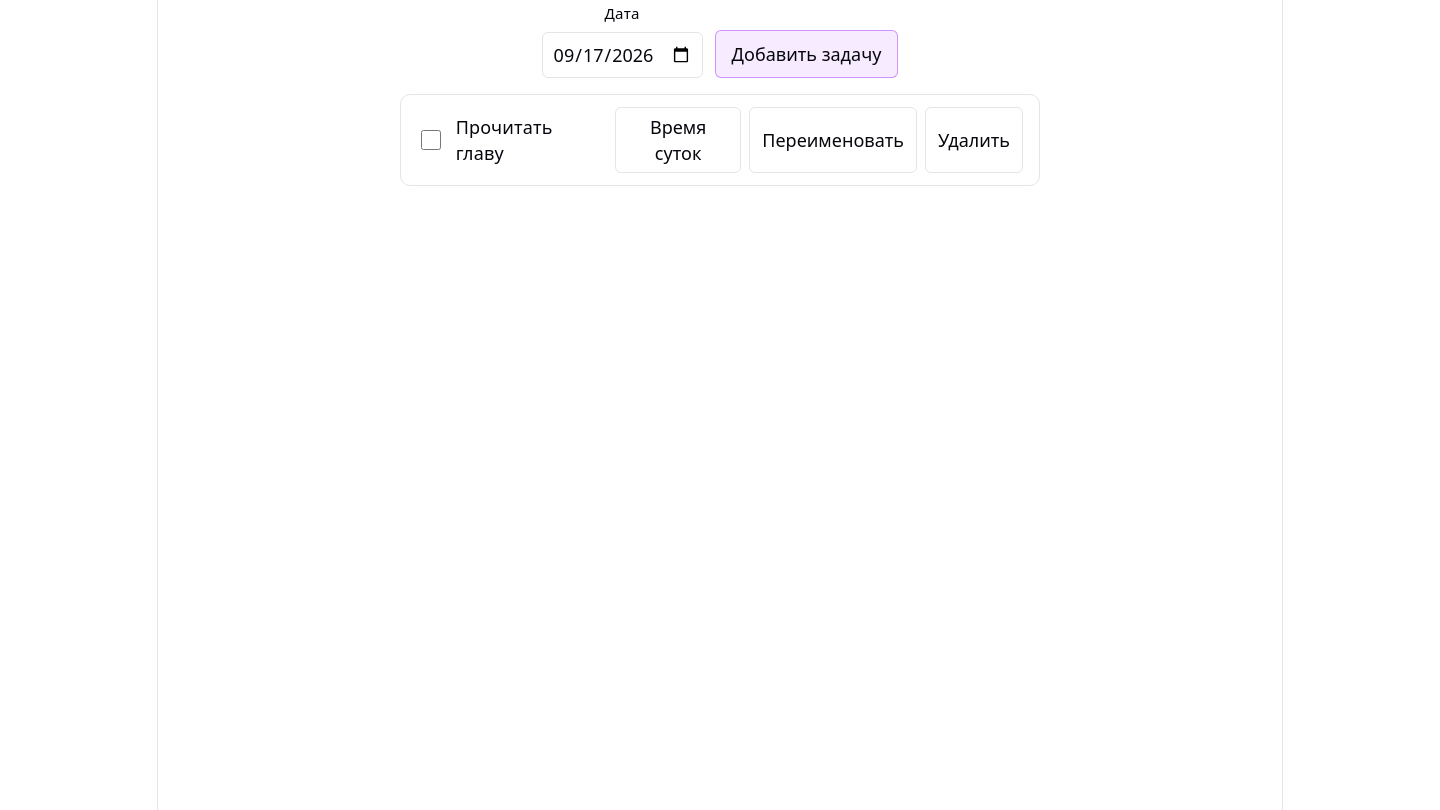
Test case: TasksTab › переименовывает задачу и обновляет название в списке
Expected: the text "Прочитать главу" is shown, [456,115,553,165]
Click the button with aria-label "Переименовать Прочитать главу".
click(833, 140)  # box [749,107,917,173]
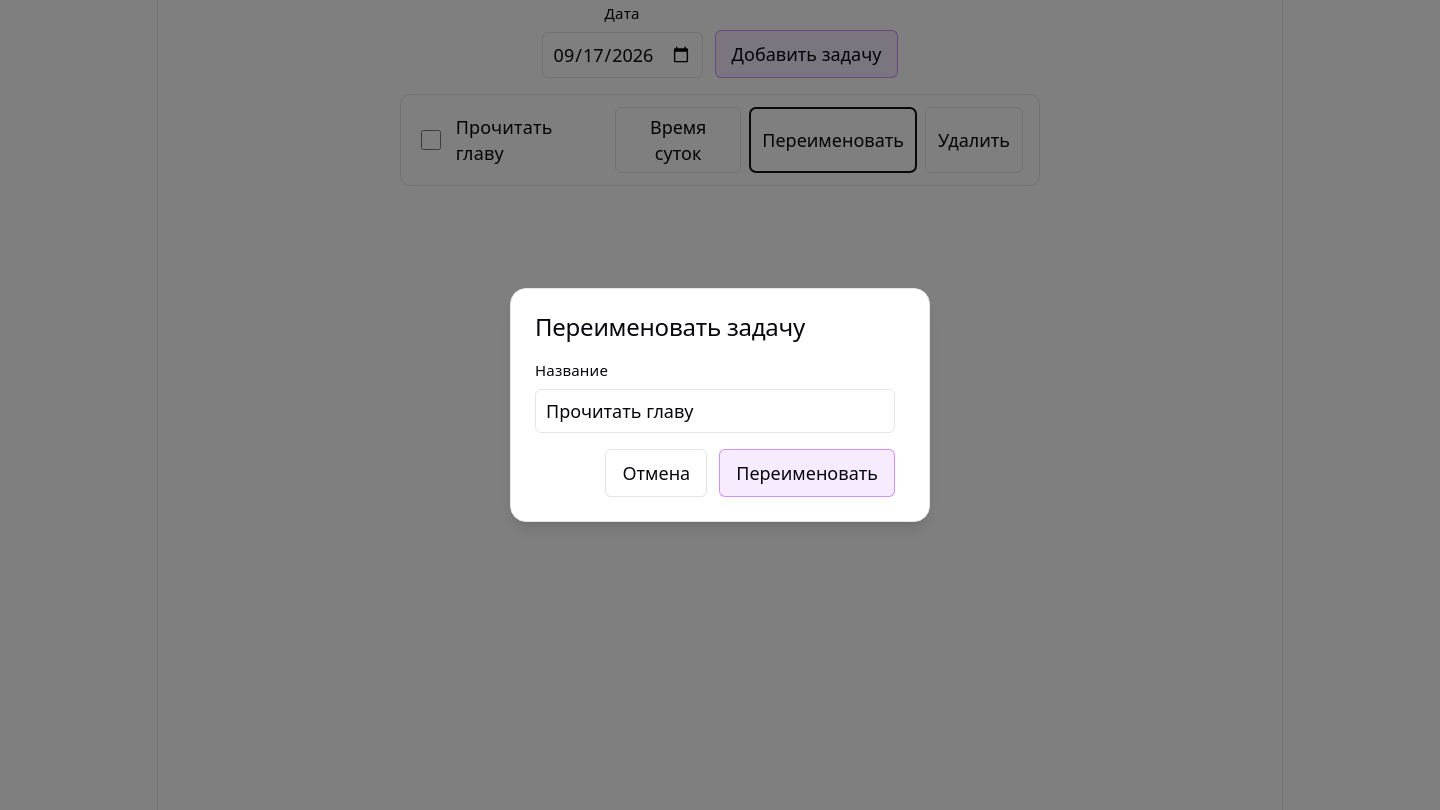
Now the field labelled "Название" holds "Прочитать главу"
Replace the text in the field labelled "Название" with "Прочитать две главы" at (715, 411), box [535,389,895,433]
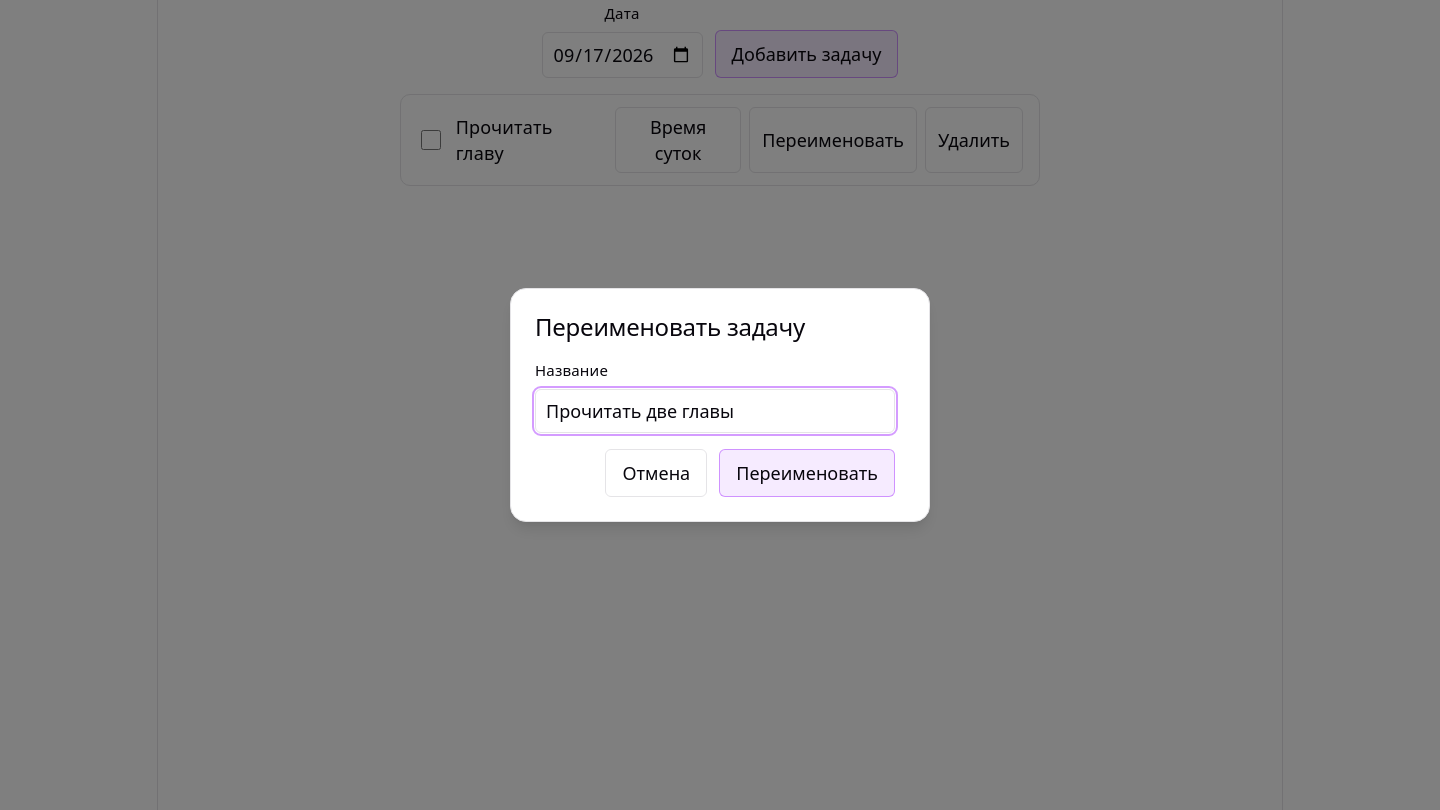
Click the button "Переименовать".
click(807, 473)  # box [719,449,895,497]
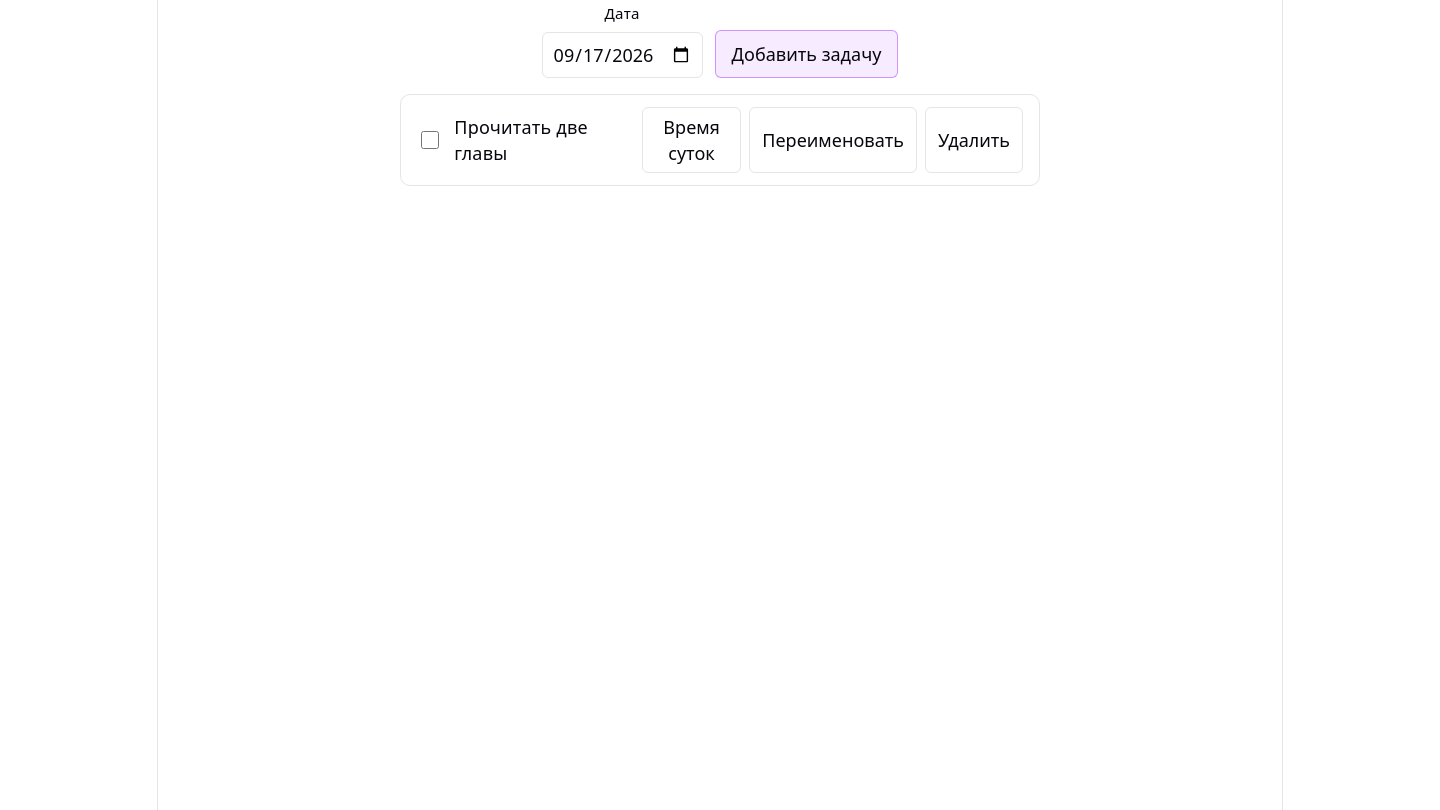
Now the text "Прочитать две главы" is shown, box [454,115,588,165]
